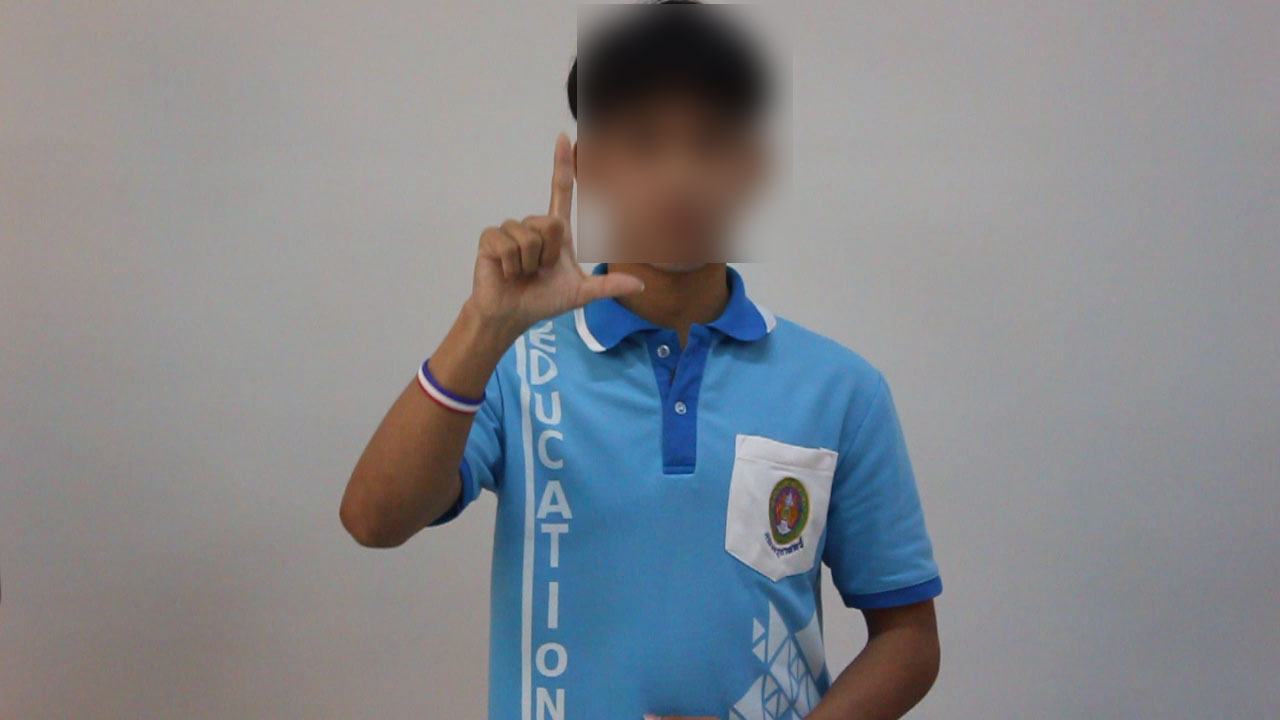lor: (370, 125, 659, 355)
